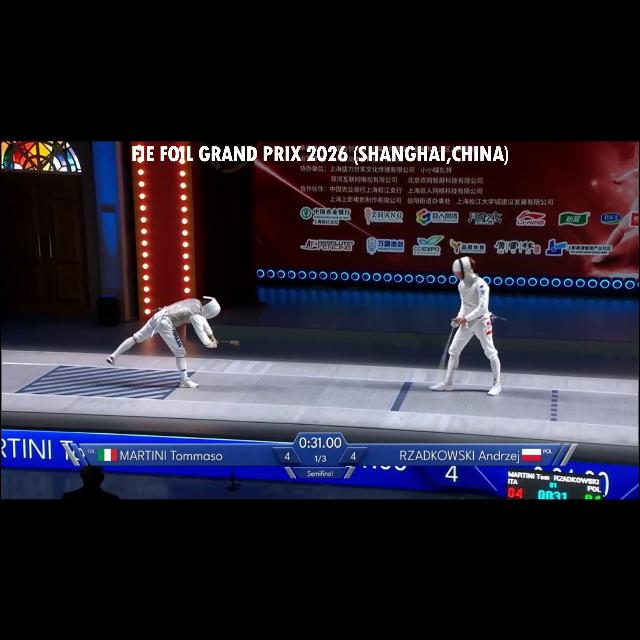blade: (430, 317, 464, 383), (210, 334, 244, 350)
